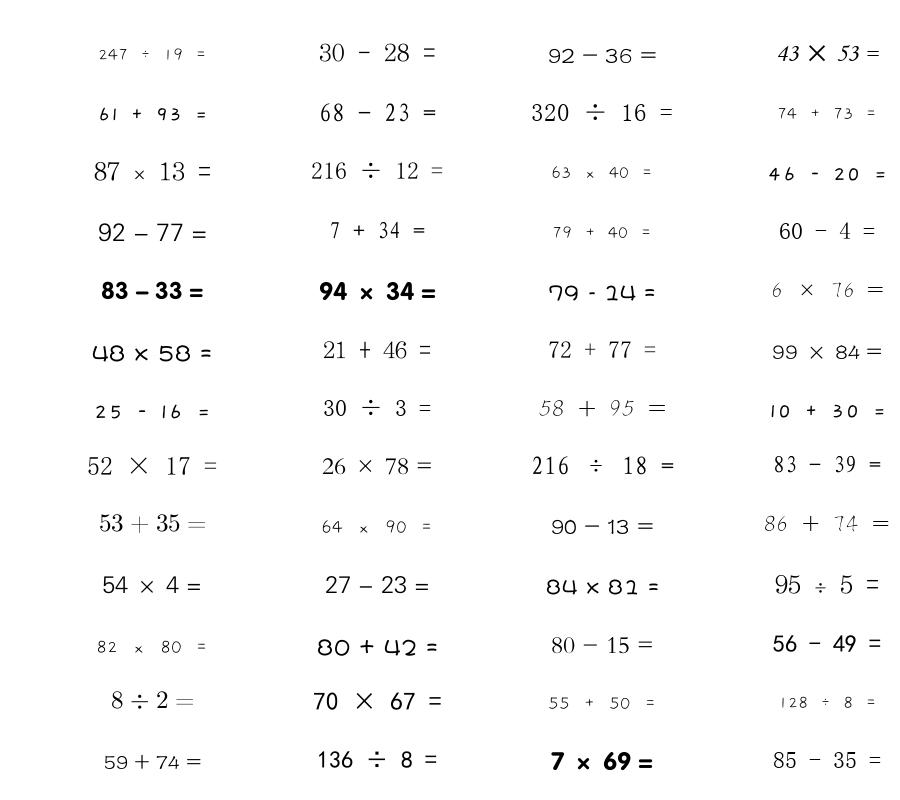MQ: (531, 456, 674, 475), (531, 103, 673, 121), (87, 456, 217, 475), (313, 692, 442, 711), (94, 161, 211, 181), (319, 281, 436, 301), (311, 162, 443, 179), (319, 43, 436, 62), (319, 103, 436, 122), (539, 400, 666, 417), (764, 515, 890, 532), (99, 514, 206, 534), (775, 574, 879, 594), (98, 223, 207, 242), (317, 639, 438, 656), (92, 345, 212, 362), (317, 751, 437, 768), (551, 751, 653, 771), (323, 341, 431, 359), (773, 455, 881, 473), (101, 281, 203, 300), (325, 576, 430, 594), (322, 458, 433, 475), (548, 341, 656, 358), (323, 399, 431, 416), (773, 635, 881, 652), (771, 282, 884, 298), (546, 579, 659, 595), (102, 576, 202, 594), (94, 404, 211, 419), (776, 45, 879, 62), (551, 637, 654, 654), (329, 221, 425, 239), (548, 285, 656, 301), (773, 752, 881, 768), (767, 167, 887, 181), (772, 345, 882, 360), (769, 404, 886, 418), (548, 48, 657, 63), (779, 222, 875, 239), (321, 520, 433, 534), (96, 640, 208, 654), (97, 107, 208, 121), (104, 754, 201, 770), (551, 519, 654, 534), (111, 691, 194, 709), (98, 48, 207, 61), (548, 697, 657, 710), (551, 166, 653, 179), (552, 226, 652, 239), (778, 696, 877, 709), (777, 108, 877, 120)
